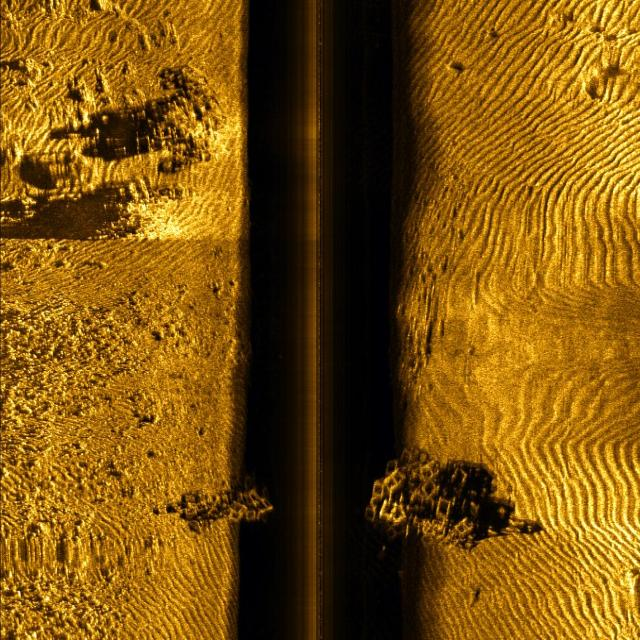artificial reef: (357, 444, 489, 560), (173, 471, 278, 537)
